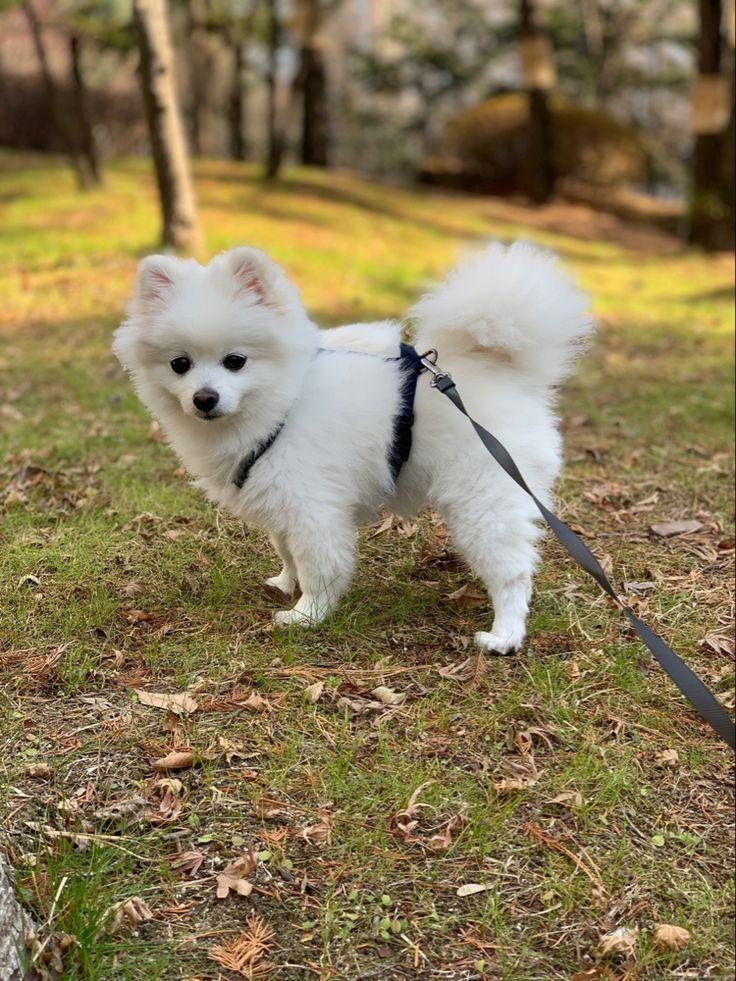dog: (114, 248, 539, 652)
